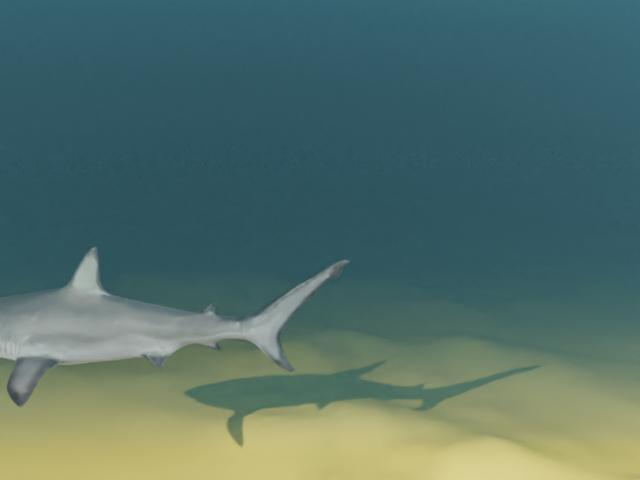Carribean Shark.001: (0, 246, 349, 407)
